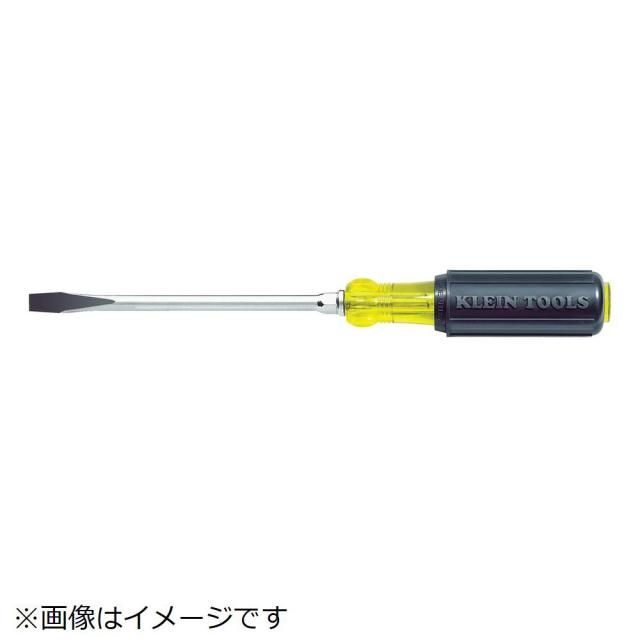Screwdriver: (29, 270, 611, 336)
